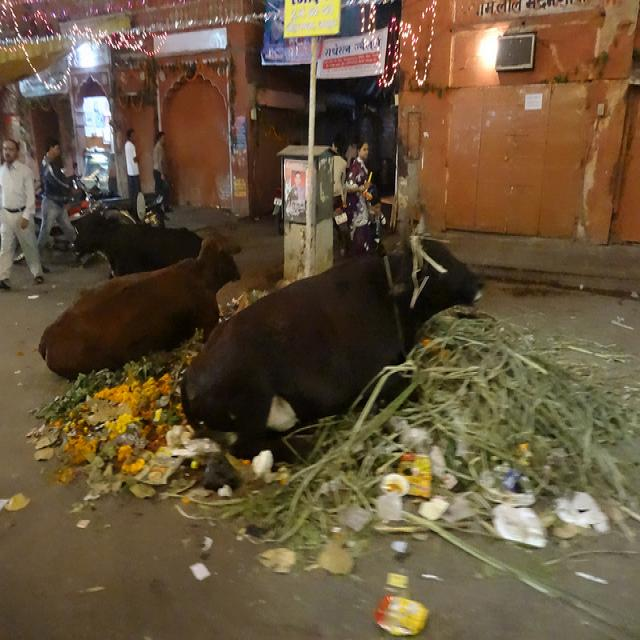motor: (62, 158, 148, 224), (332, 192, 352, 258)
